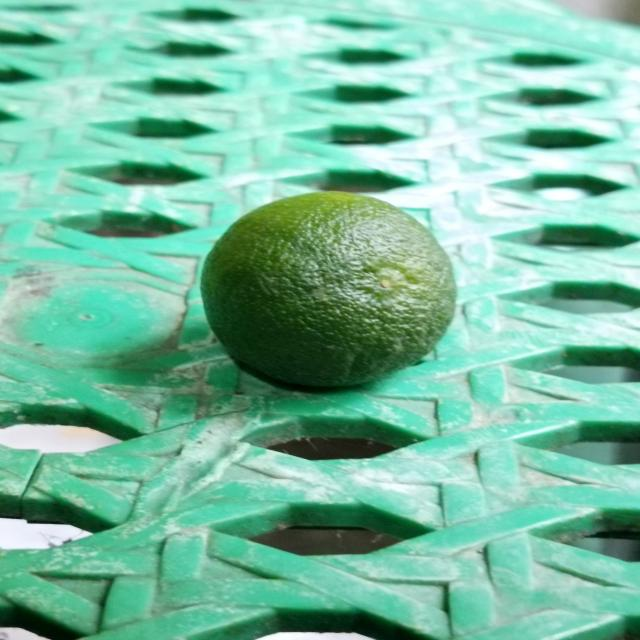heathy: (199, 188, 462, 391)
